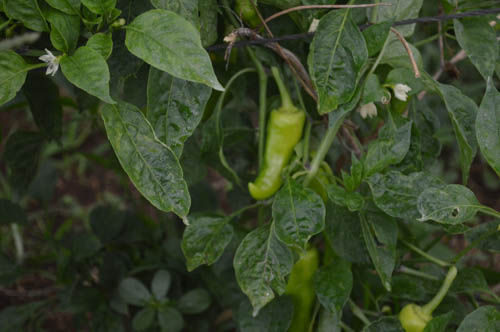ChiliPepper: (243, 109, 303, 198), (279, 242, 316, 328)
